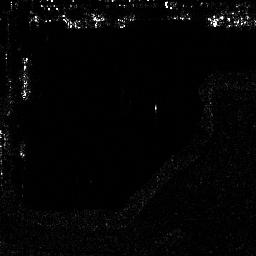ship: (18, 55, 33, 100)
